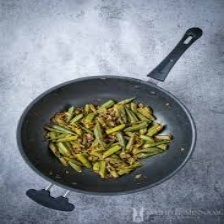sabzi: (43, 95, 174, 181)
